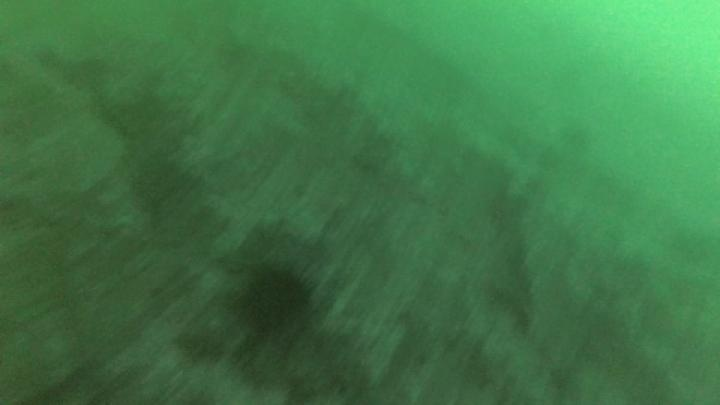echinus: (234, 260, 316, 335)
